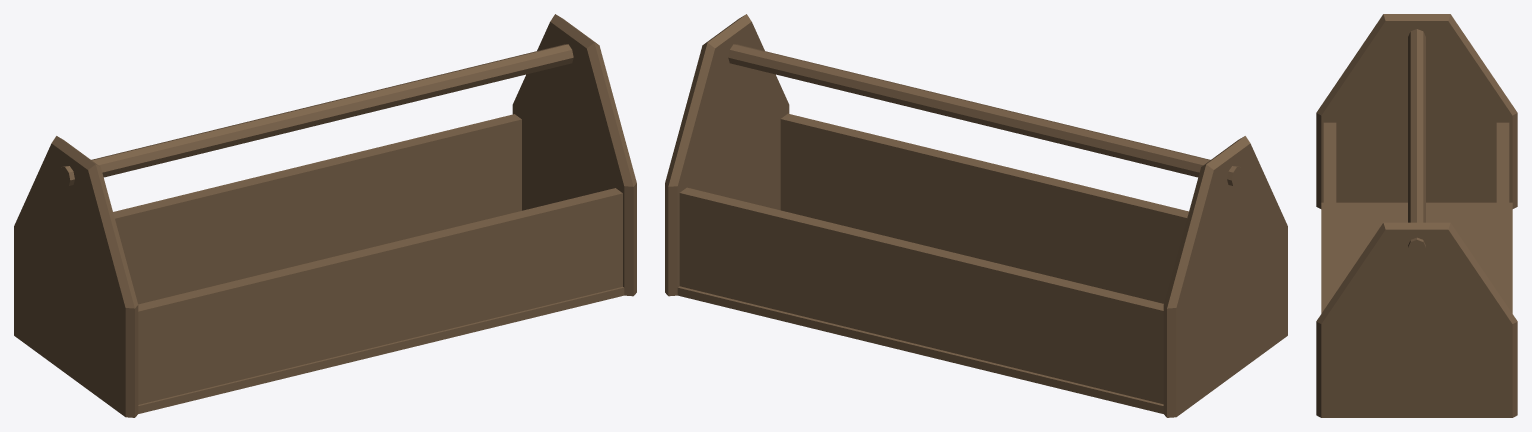
File: toolbox-v1.glb
The picture shows the model from 3 angles, left to right: view 1: azimuth 30°, elevation 25°; view 2: azimuth 150°, elevation 25°; view 3: azimuth 270°, elevation 25°; orthographic projection. The views are drawn at different scales.
Visible parts, largest first — view 1: Toolbox; view 2: Toolbox; view 3: Toolbox.
Part boxes in pixels (box(x1,y1,x2,y2)): Toolbox: box(14, 14, 636, 417); Toolbox: box(665, 14, 1287, 417); Toolbox: box(1316, 14, 1517, 417).
Bounding box in the file's own units: 1 × 0.4122 × 0.3907.
